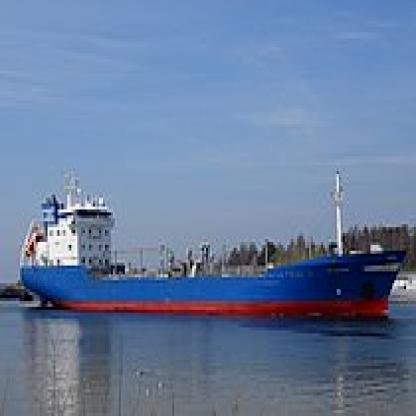Tanker: (18, 168, 410, 342)
